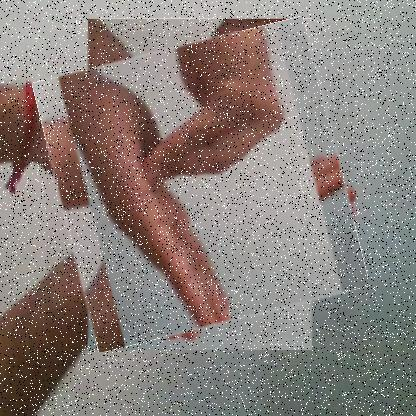Z: (46, 31, 355, 339)
